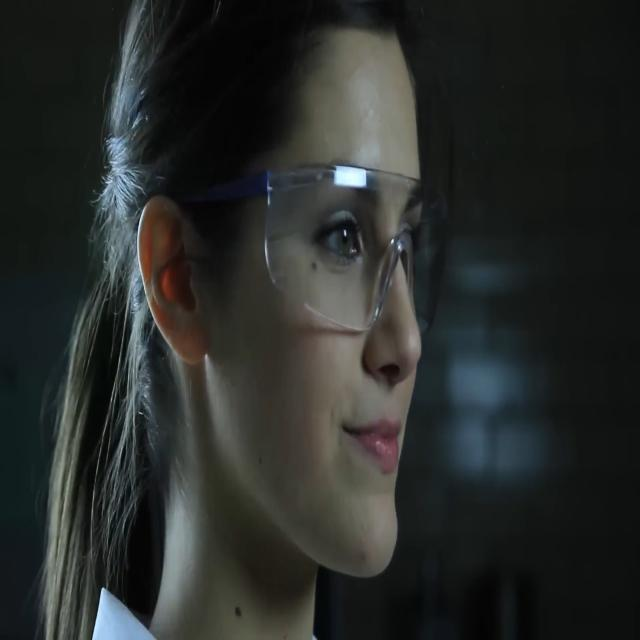googles: (162, 150, 454, 351)
labcoat: (88, 578, 323, 640)
